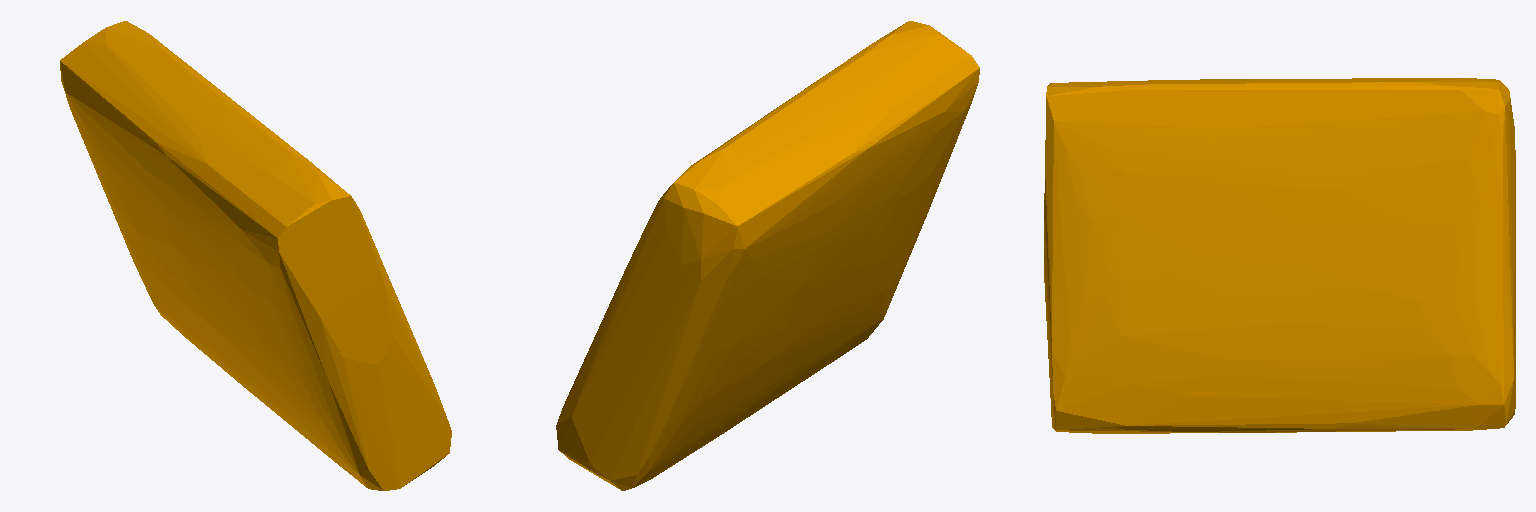
The robot description file, URDF, robot "root":
<robot name="root">
  <link name="link_convex_piece_000.obj">
    <inertial>
      <origin xyz="0 0 0" rpy="0 0 0"/>
    </inertial>
    <visual>
      <origin xyz="0 0 0" rpy="0 0 0"/>
      <geometry>
        <mesh filename="meshes/convex_piece_000.obj" scale="1.0 1.0 1.0"/>
      </geometry>
    </visual>
    <collision>
      <origin xyz="0 0 0" rpy="0 0 0"/>
      <geometry>
        <mesh filename="meshes/convex_piece_000.obj" scale="1.0 1.0 1.0"/>
      </geometry>
    </collision>
  </link>
</robot>

--- Facts derived from the render (not from the file) ---
The picture shows the robot from 3 angles, left to right: view 1: azimuth 30°, elevation 25°; view 2: azimuth 150°, elevation 25°; view 3: azimuth 270°, elevation 25°; orthographic projection.
Model root with 1 links and 0 joints (none), rooted at link_convex_piece_000.obj, posed every joint at zero.
Links seen in each view (by area): view 1: link_convex_piece_000.obj; view 2: link_convex_piece_000.obj; view 3: link_convex_piece_000.obj.
Link boxes in pixels (left/top/right/bottom): link_convex_piece_000.obj: left=60, top=21, right=451, bottom=490; link_convex_piece_000.obj: left=556, top=21, right=979, bottom=490; link_convex_piece_000.obj: left=1044, top=78, right=1515, bottom=433.
Size in the robot's own frame: 0.683 by 1.5 by 1.14 metres.
1 mesh visuals loaded from 1 distinct referenced files (1 OBJ).
